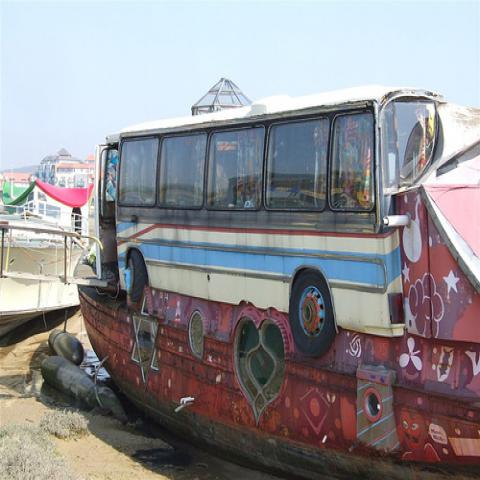bus: (75, 83, 447, 357)
